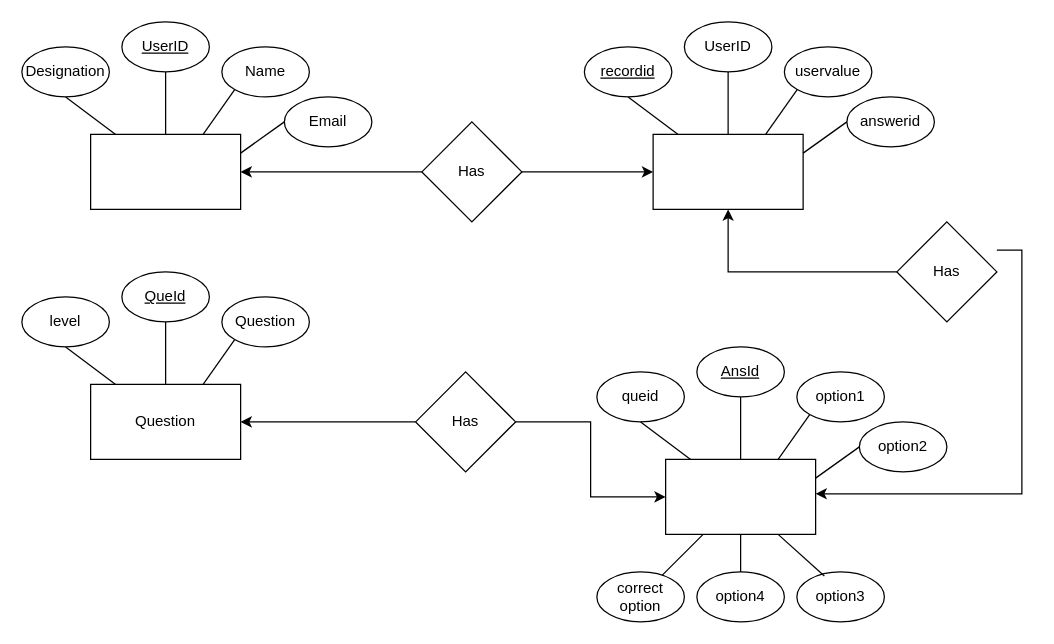
Some shapes in this 1054 by 644 pixel diagram are drawn without their labels. Each missing label, with the centre of its shape:
"Answer" goes at (740,496).
"User" goes at (165,171).
"User Record" goes at (727,171).
